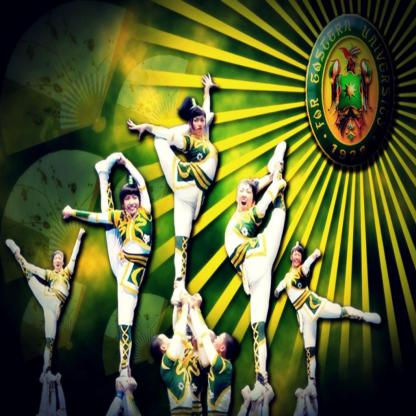face: (238, 182, 254, 211), (125, 196, 140, 216), (194, 115, 206, 136), (214, 332, 226, 350), (293, 251, 303, 269), (162, 334, 174, 348), (192, 332, 200, 350), (54, 255, 63, 269)
